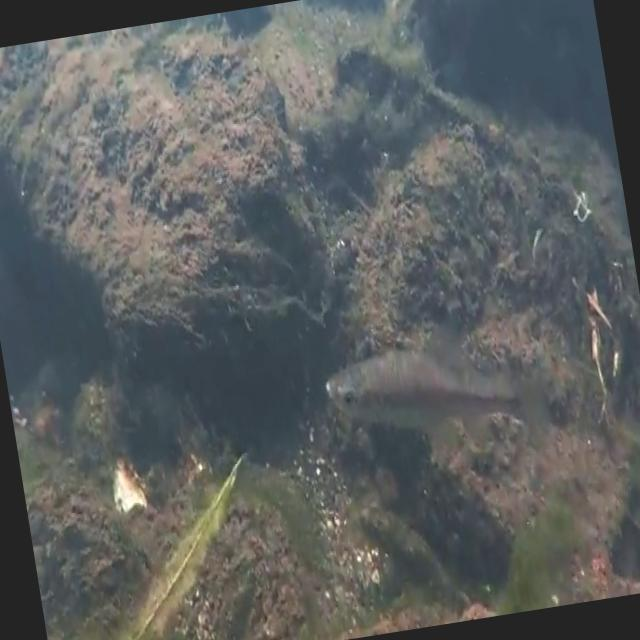Cakil Baligi: (312, 305, 544, 474)
